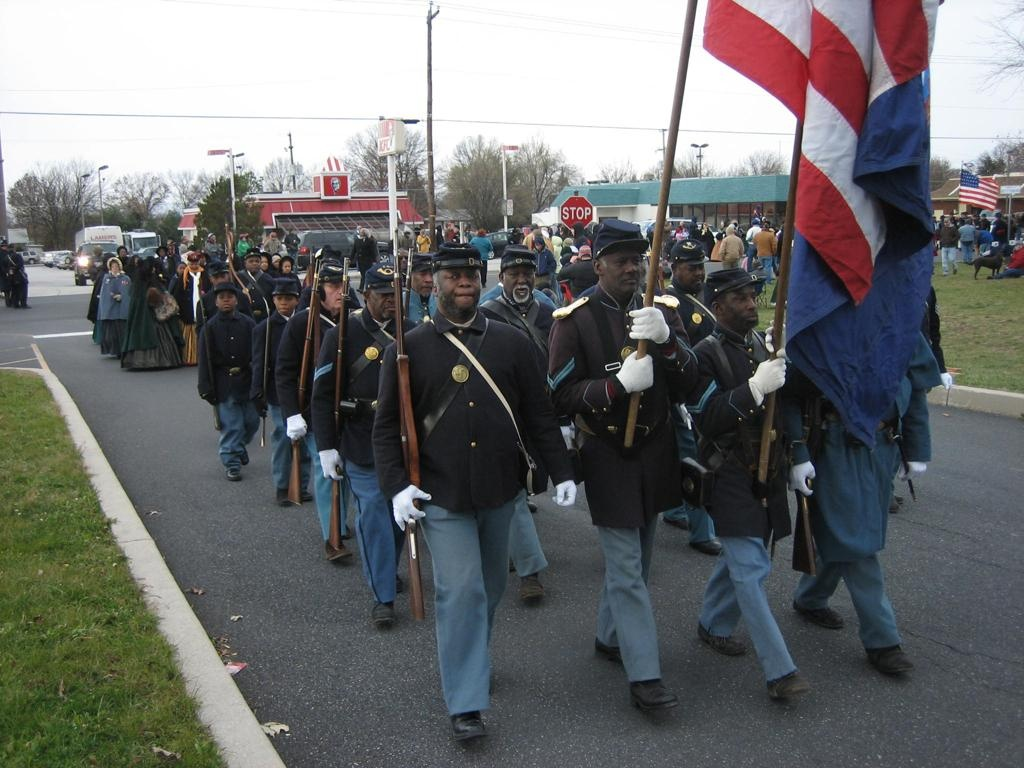human_face: (437, 268, 481, 312), (602, 250, 642, 294), (721, 280, 757, 326), (502, 266, 534, 302), (678, 258, 706, 292), (371, 288, 399, 318), (324, 278, 344, 310), (412, 270, 434, 296), (274, 294, 294, 314), (216, 290, 234, 310), (212, 272, 228, 288), (244, 257, 260, 271), (397, 252, 409, 268), (258, 254, 268, 270), (270, 256, 280, 268), (282, 260, 292, 272), (188, 259, 198, 269), (178, 262, 186, 274), (111, 262, 119, 272), (268, 232, 276, 240), (210, 234, 216, 242), (168, 246, 174, 254), (534, 242, 540, 250), (10, 246, 16, 252), (158, 249, 164, 255), (119, 249, 125, 255), (182, 237, 188, 243)
